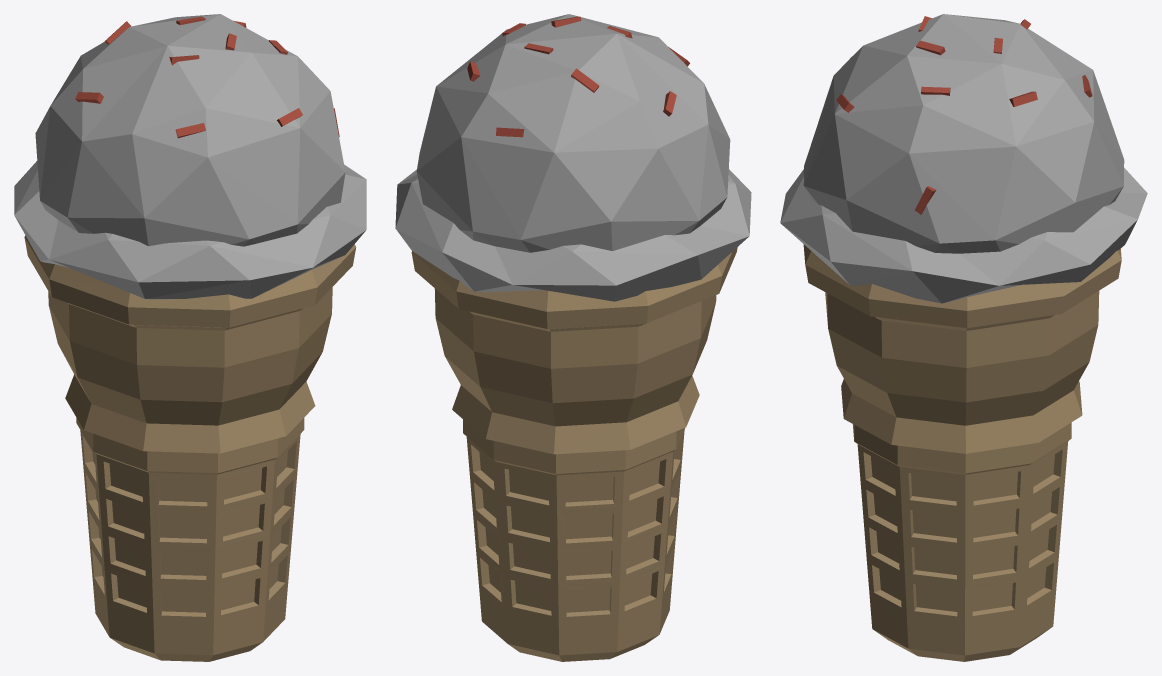
File: ice-cream-3.glb
3 views of the same model, side by side, from view 1: azimuth 30°, elevation 25°; view 2: azimuth 150°, elevation 25°; view 3: azimuth 270°, elevation 25° (orthographic).
Visible parts, largest first — view 1: IceCream_3; view 2: IceCream_3; view 3: IceCream_3.
Part boxes in pixels (x1,y1,x2,y2): IceCream_3: [14, 14, 366, 661]; IceCream_3: [395, 14, 751, 661]; IceCream_3: [780, 14, 1147, 661].
Bounding box in the file's own units: 0.5155 × 0.9274 × 0.5155.
